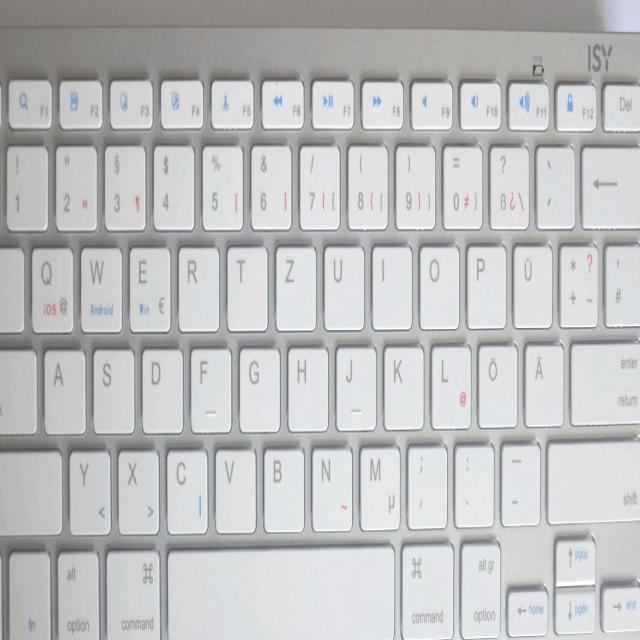0: (440, 138, 482, 228)
1: (4, 139, 47, 228)
2: (52, 139, 97, 229)
3: (101, 139, 146, 229)
4: (151, 137, 194, 227)
5: (199, 138, 242, 229)
6: (248, 138, 291, 228)
7: (296, 139, 340, 229)
8: (344, 138, 388, 229)
9: (392, 138, 435, 229)
a: (41, 342, 85, 432)
accent: (533, 138, 574, 225)
ae: (522, 336, 564, 425)
alt-left: (54, 543, 100, 640)
altgr-right: (458, 533, 501, 638)
b: (260, 441, 304, 529)
c: (164, 442, 208, 532)
caret: (0, 138, 22, 228)
comma: (403, 437, 446, 526)
d: (138, 341, 182, 432)
del: (578, 138, 640, 226)
e: (126, 239, 171, 332)
enter: (568, 332, 640, 424)
f: (187, 340, 231, 432)
g: (236, 340, 279, 430)
h: (284, 340, 327, 429)
hash: (603, 236, 640, 324)
i: (369, 237, 411, 328)
j: (332, 339, 375, 429)
k: (380, 337, 423, 427)
keyboard: (0, 21, 640, 640)
l: (429, 338, 471, 428)
m: (356, 438, 399, 529)
minus: (497, 437, 540, 524)
n: (308, 441, 352, 529)
o: (416, 236, 459, 327)
oe: (475, 337, 517, 426)
p: (463, 236, 505, 327)
plus: (556, 237, 598, 325)
point: (451, 438, 493, 524)
q: (28, 239, 73, 332)
r: (175, 240, 218, 330)
s: (89, 341, 133, 432)
shift-left: (0, 441, 63, 535)
shift-lock: (0, 341, 41, 434)
shift-right: (544, 432, 640, 523)
space: (165, 537, 394, 640)
ss: (486, 139, 528, 227)
strg-left: (0, 544, 23, 639)
t: (224, 238, 267, 329)
tab: (0, 239, 34, 329)
u: (321, 237, 364, 329)
ue: (509, 236, 552, 327)
v: (212, 442, 255, 530)
w: (78, 236, 122, 331)
x: (115, 443, 159, 532)
y: (67, 444, 110, 533)
z: (272, 238, 316, 329)
